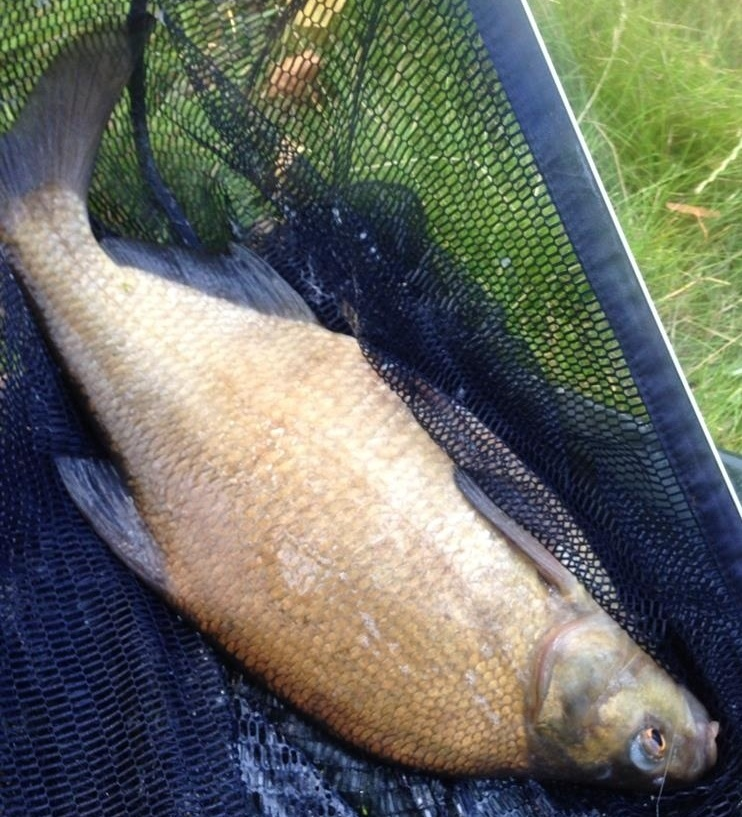Abramis brama: (1, 20, 722, 797)
